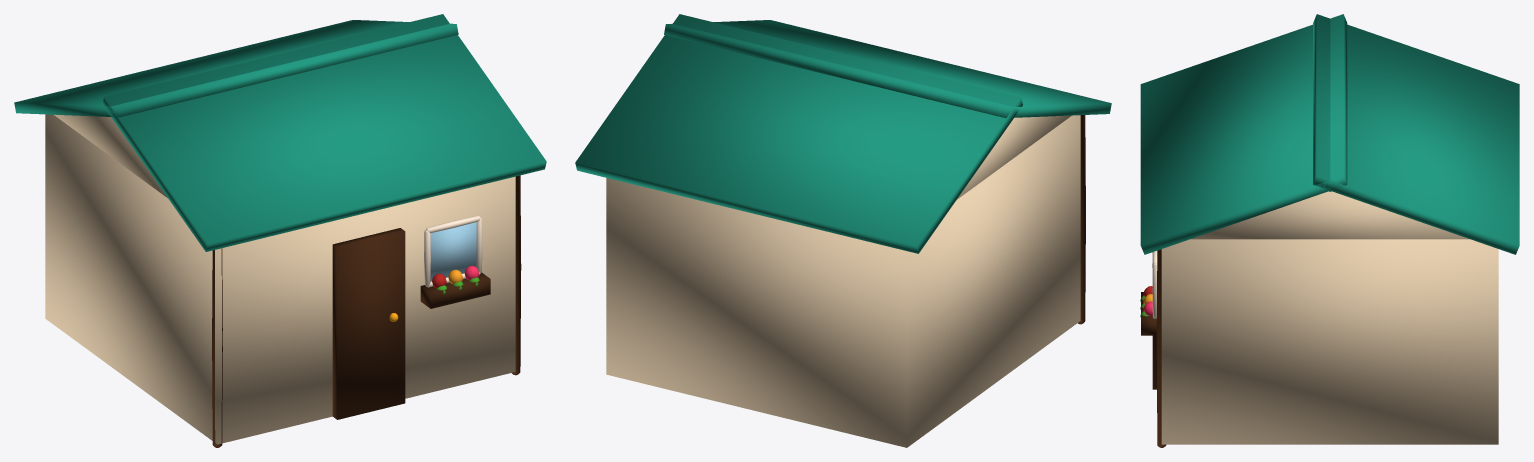
File: shed_l2.glb
3 renders of one model, left to right at view 1: azimuth 30°, elevation 25°; view 2: azimuth 150°, elevation 25°; view 3: azimuth 270°, elevation 25°, orthographic. The views are drawn at different scales.
Parts seen in each view (by area): view 1: ShedL2; view 2: ShedL2; view 3: ShedL2.
Boxes of the visible parts, x1,y1,x2,y2 form: ShedL2: (14,14,546,447); ShedL2: (575,14,1111,447); ShedL2: (1140,14,1519,447).
Bounding box in the file's own units: 2.5 × 2.03 × 2.48.
Materials: 1 (1 with a texture image).
